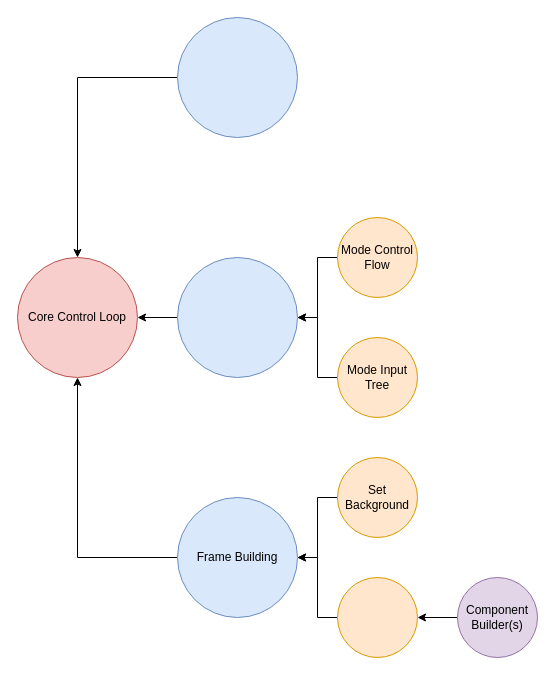
Image size: 555x675. Some labels were removed from this diagram. Here are the shapes that lost their labels. From the top down, the box of each, then its label:
(176, 16, 298, 138): Packages
(176, 256, 298, 378): State Handling
(336, 576, 418, 658): Render Cycle
